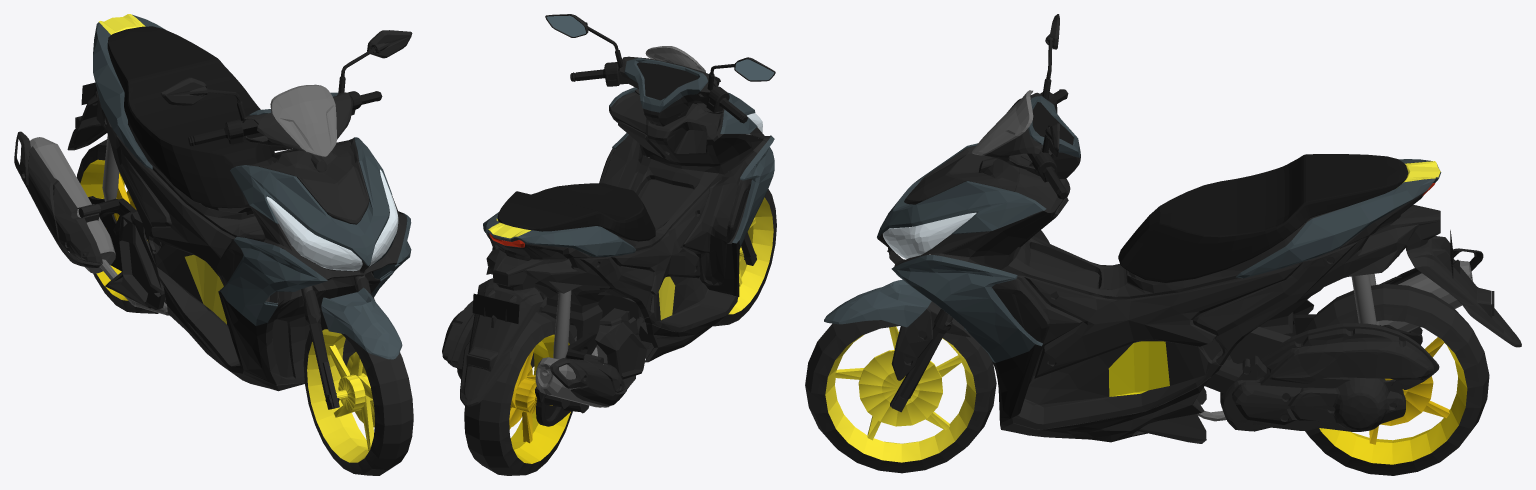
The model's file is aerox.fbx.
The picture shows the model from 3 angles, left to right: view 1: azimuth 30°, elevation 25°; view 2: azimuth 150°, elevation 25°; view 3: azimuth 270°, elevation 25°; orthographic projection. The views are drawn at different scales.
Visible parts, largest first — view 1: body, stang, ban depan.003, ban blakang; view 2: body, ban blakang, stang, ban depan.003; view 3: body, ban depan.003, ban blakang, stang.
Boxes of the visible parts, x1=… form: body: x1=14, y1=14, x2=411, y2=391; stang: x1=161, y1=30, x2=412, y2=409; ban depan.003: x1=303, y1=326, x2=413, y2=475; ban blakang: x1=77, y1=139, x2=160, y2=313; body: x1=442, y1=87, x2=774, y2=426; ban blakang: x1=464, y1=312, x2=575, y2=475; stang: x1=545, y1=14, x2=775, y2=265; ban depan.003: x1=713, y1=189, x2=776, y2=326; body: x1=877, y1=143, x2=1521, y2=443; ban depan.003: x1=805, y1=320, x2=996, y2=473; ban blakang: x1=1303, y1=283, x2=1489, y2=475; stang: x1=824, y1=14, x2=1080, y2=412.
Size of the model in its own units: 87.47 by 121 by 197.
